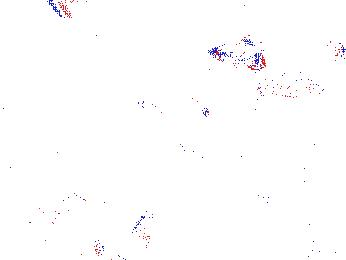X-ray fish: (132, 212, 160, 246)
glassfish: (180, 141, 259, 188)
red belly glassfish: (270, 74, 318, 96)
redtail glassfish: (1, 1, 78, 25), (197, 101, 268, 126), (211, 41, 274, 63), (137, 93, 176, 115)
